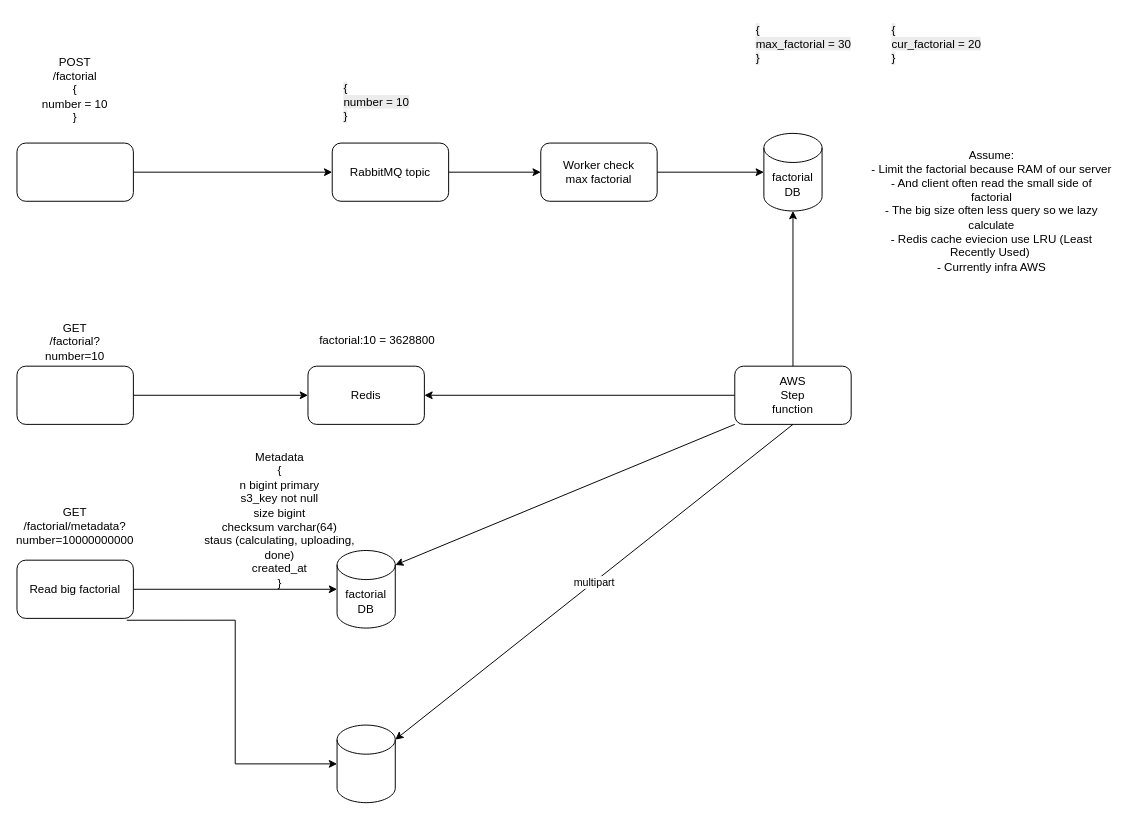
The diagram is 1130 pixels wide and 820 high, and some of its shapes have lost their labels. Each missing label, with the centre of its shape:
Read small factorial (Less than 1 billion): pixel 74 394
Request cal: pixel 74 171
S3: pixel 365 763
